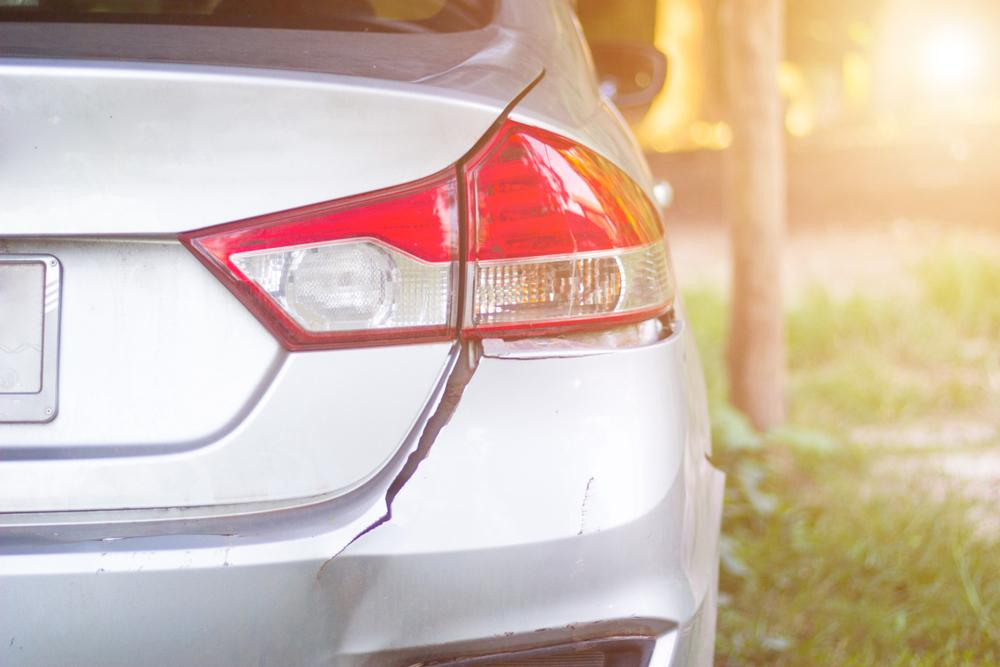crack: (318, 338, 623, 579)
dent: (313, 556, 407, 667)
scratch: (575, 473, 601, 539)
